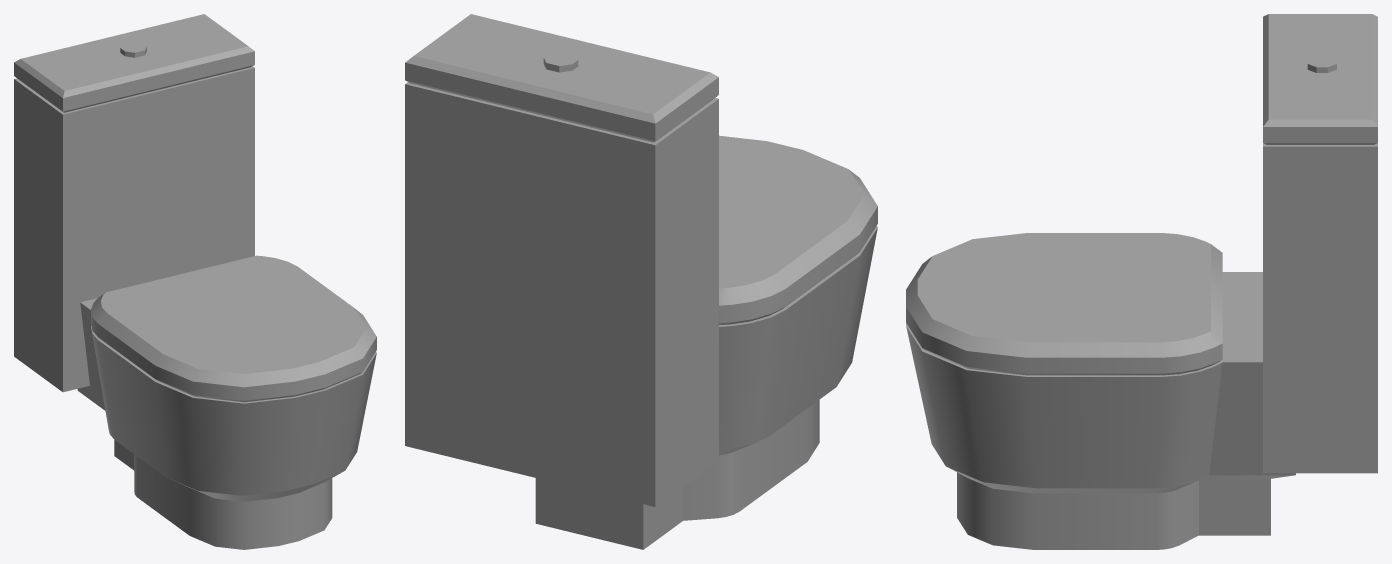
The model's file is toilet014.glb.
The picture shows the model from 3 angles, left to right: view 1: azimuth 30°, elevation 25°; view 2: azimuth 150°, elevation 25°; view 3: azimuth 270°, elevation 25°; orthographic projection. The views are drawn at different scales.
Visible parts, largest first — view 1: toiletries.014; view 2: toiletries.014; view 3: toiletries.014.
Boxes of the visible parts, x1,y1,x2,y2 form: toiletries.014: (14,14,376,549); toiletries.014: (405,14,877,549); toiletries.014: (906,14,1377,549).
Size of the model in its own units: 0.5282 by 0.9302 by 0.8823.
Materials: 1 (1 with a texture image).
